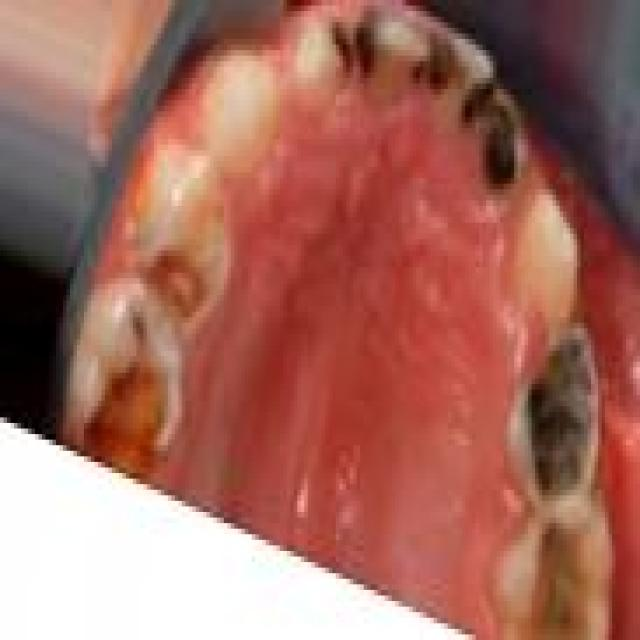caries: (506, 322, 604, 516), (82, 313, 175, 474), (507, 509, 621, 640), (454, 61, 533, 205), (142, 225, 218, 335), (398, 17, 466, 107), (320, 6, 386, 98)
